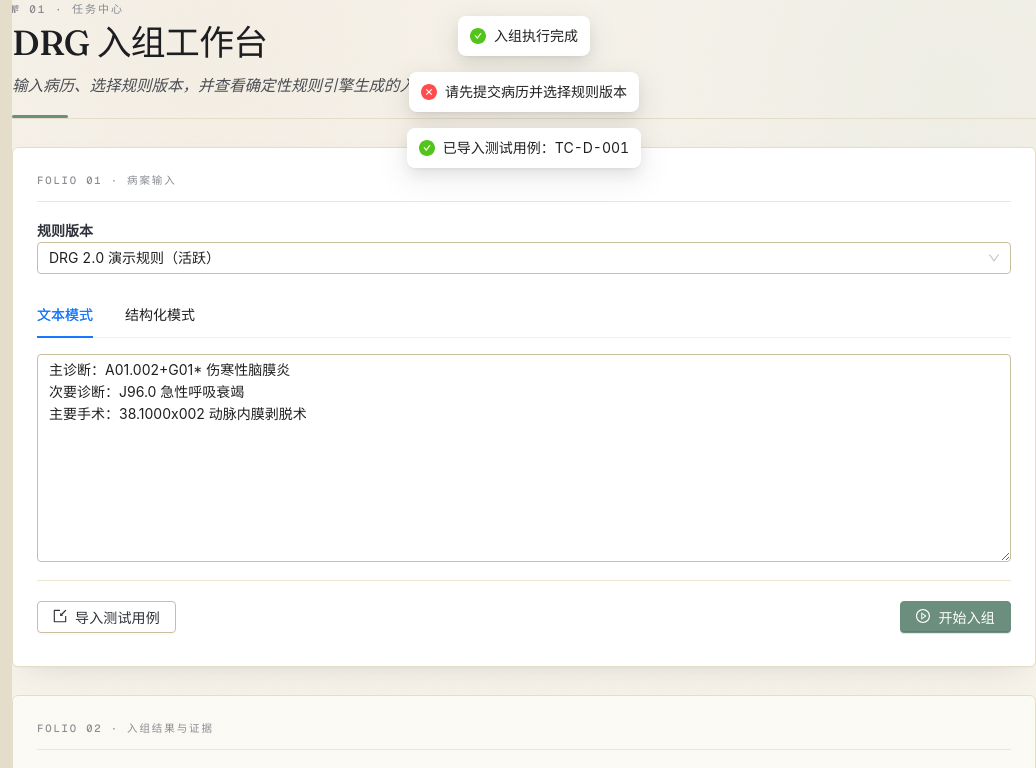
Test: DRGGrouping › does not mark a result stale when the same rule version was used
Expected: the text "DRG 2.0 演示规则（活跃）" is shown, [49, 249, 220, 266]
Step 1. Click the button "开始入组" → x=956, y=617, box [900, 601, 1011, 633]
(page scrolled)
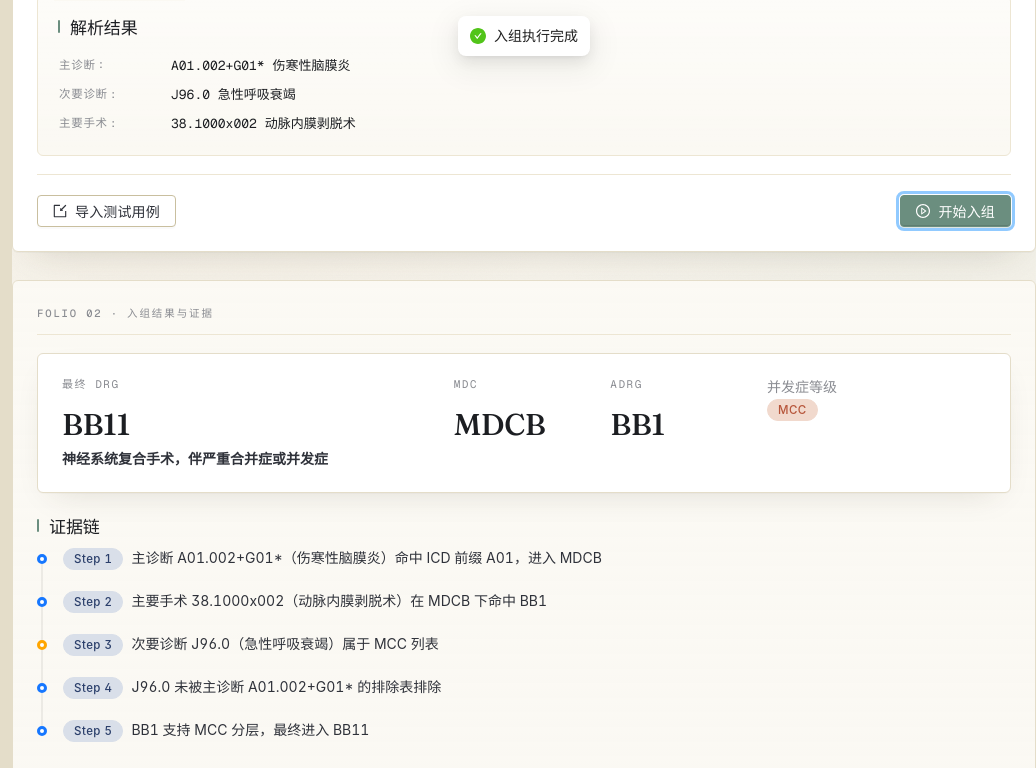
Expected: the text "最终 DRG" is shown, [62, 377, 120, 391]
